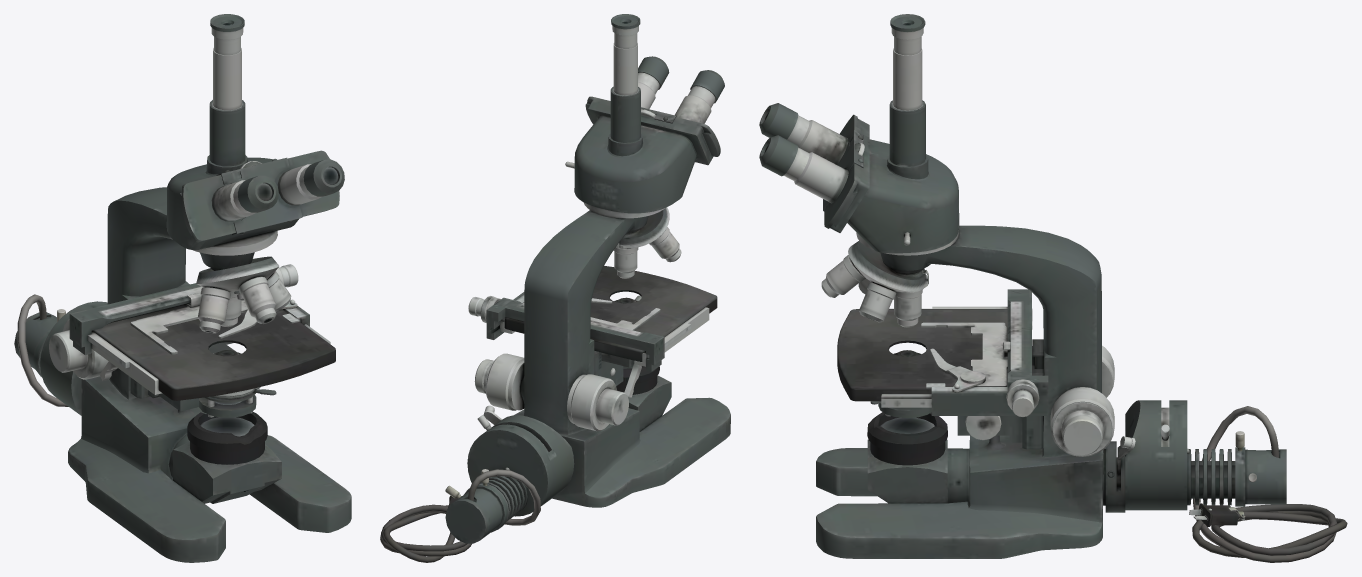
The model's file is industrial_microscope.glb.
3 renders of one model, left to right at view 1: azimuth 30°, elevation 25°; view 2: azimuth 150°, elevation 25°; view 3: azimuth 270°, elevation 25°, orthographic. The views are drawn at different scales.
Visible parts, largest first — view 1: industrial_microscope_cable; view 2: industrial_microscope_cable; view 3: industrial_microscope_cable.
Boxes of the visible parts, <box> form: industrial_microscope_cable: <box>14,14,351,562</box>; industrial_microscope_cable: <box>380,14,730,562</box>; industrial_microscope_cable: <box>759,14,1347,562</box>.
Bounding box in the file's own units: 0.2145 × 0.4617 × 0.4981.
1 material, 1 textured.
